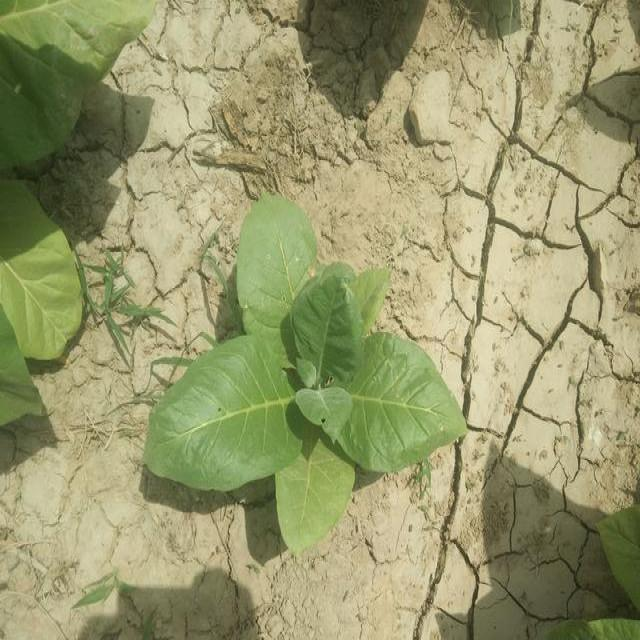crop: (163, 196, 452, 532), (0, 4, 154, 168), (1, 179, 74, 427), (585, 497, 639, 640)
